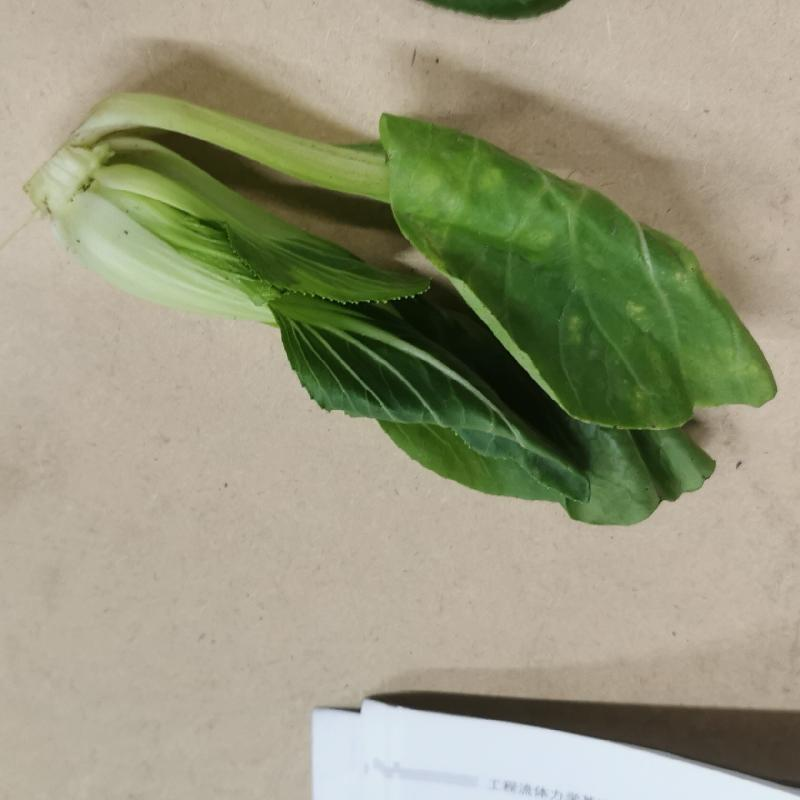green vegatable: (16, 83, 781, 532)
